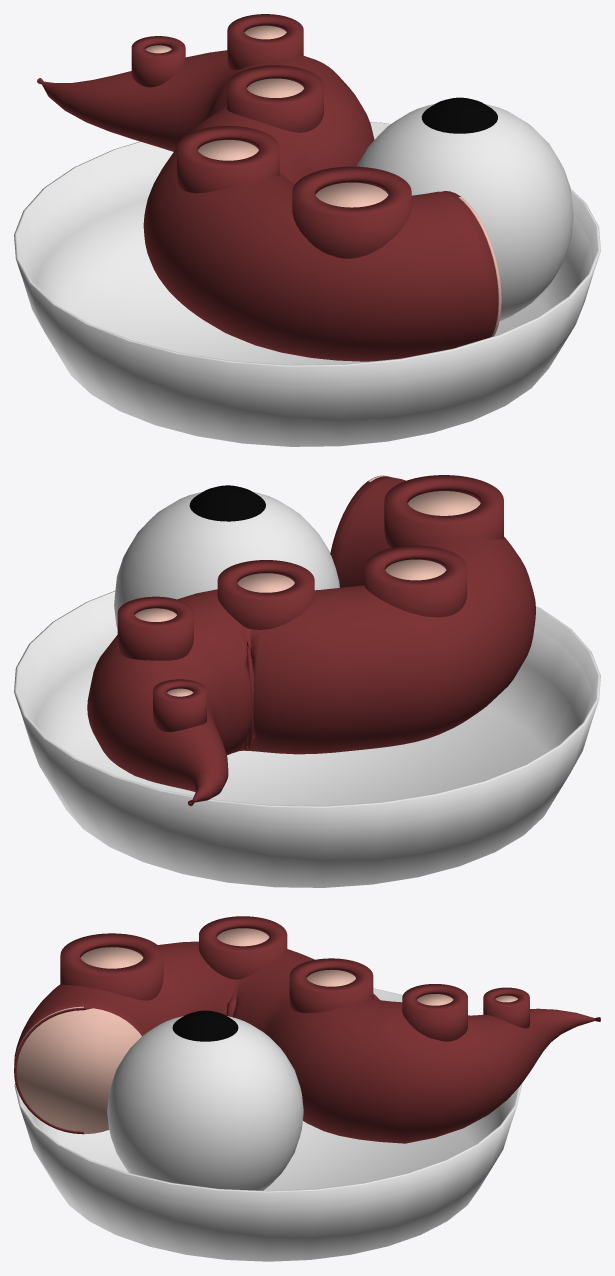
Rendered from TentacleAndEyeMix.fbx.
3 renders of one model, top to bottom at view 1: azimuth 30°, elevation 25°; view 2: azimuth 150°, elevation 25°; view 3: azimuth 270°, elevation 25°, orthographic. The views are drawn at different scales.
Parts seen in each view (by area): view 1: TheTentacleAndEye; view 2: TheTentacleAndEye; view 3: TheTentacleAndEye.
Part boxes in pixels (<box>): TheTentacleAndEye: <box>14,14,600,446</box>; TheTentacleAndEye: <box>14,475,600,887</box>; TheTentacleAndEye: <box>14,916,600,1261</box>.
Size of the model in its own units: 131 by 58.34 by 152.
